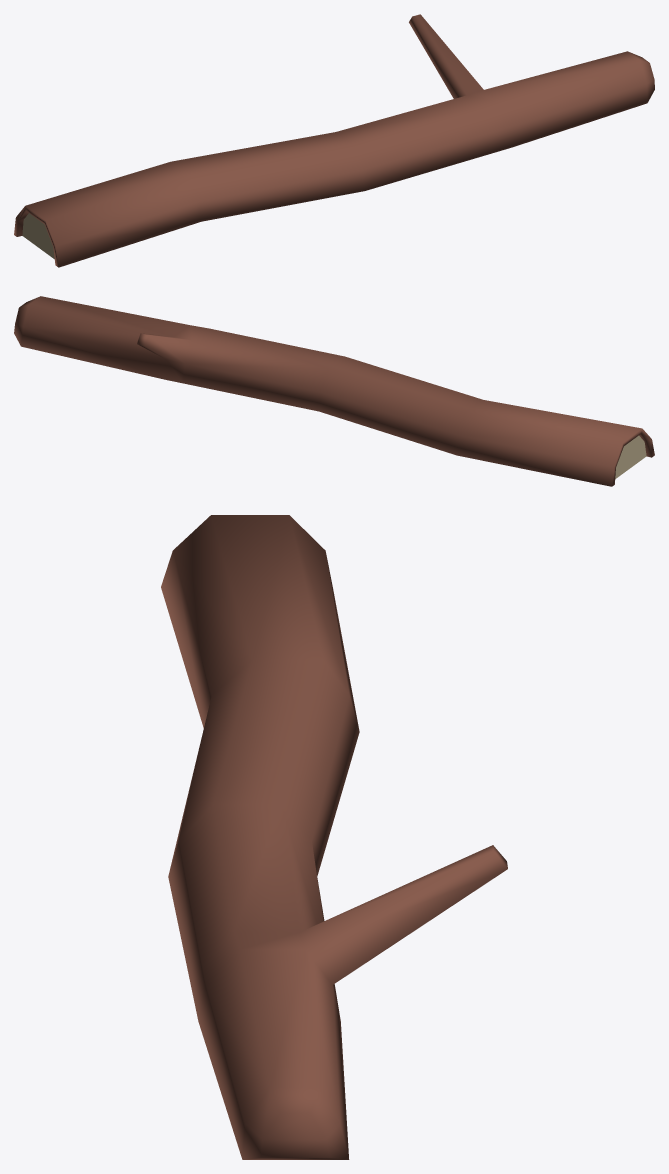
The model's file is Log_DarkBrown.fbx.
3 renders of one model, top to bottom at view 1: azimuth 30°, elevation 25°; view 2: azimuth 150°, elevation 25°; view 3: azimuth 270°, elevation 25°, orthographic. The views are drawn at different scales.
Parts seen in each view (by area): view 1: Cube_118, Cube_275; view 2: Cube_118, Cube_275; view 3: Cube_118.
Boxes of the visible parts, bbox=[...] form: Cube_118: bbox=[14, 14, 654, 267]; Cube_275: bbox=[22, 213, 54, 258]; Cube_118: bbox=[14, 296, 654, 486]; Cube_275: bbox=[615, 435, 646, 478]; Cube_118: bbox=[161, 515, 507, 1159].
Size of the model in its own units: 513 by 63.59 by 129.
